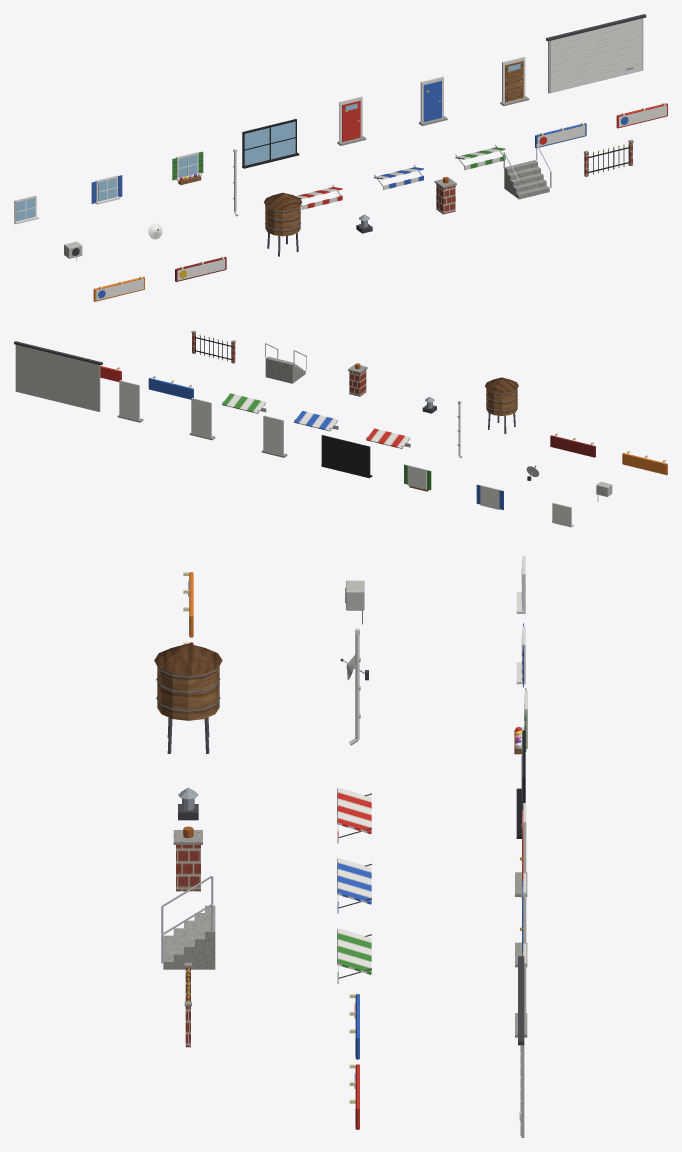
Rendered from Props_Kit.fbx.
3 renders of one model, top to bottom at view 1: azimuth 30°, elevation 25°; view 2: azimuth 150°, elevation 25°; view 3: azimuth 270°, elevation 25°, orthographic. The views are drawn at different scales.
Visible parts, largest first — view 1: Kit_GarageDoor, Kit_ShopWindow, Kit_WaterTank, Kit_Stairs, Kit_DoorRed, Kit_DoorWood, Kit_DoorBlue, Kit_WindowFlowers, Kit_WindowShutters, Kit_SignBarber, Kit_SignGym, Kit_SignFurniture (+7 smaller); view 2: Kit_GarageDoor, Kit_ShopWindow, Kit_WaterTank, Kit_Stairs, Kit_DoorBlue, Kit_DoorRed, Kit_DoorWood, Kit_WindowFlowers, Kit_SignFurniture, Kit_SignGym, Kit_SignClothes, Kit_WindowShutters (+6 smaller); view 3: Kit_WaterTank, Kit_Stairs, Kit_Chimney, Kit_AwningBlue, Kit_AwningRed, Kit_AwningGreen, Kit_GarageDoor.
Part boxes in pixels (bbox=[...]): Kit_GarageDoor: bbox=[546, 14, 646, 93]; Kit_ShopWindow: bbox=[242, 119, 299, 168]; Kit_WaterTank: bbox=[264, 192, 302, 256]; Kit_Stairs: bbox=[503, 144, 551, 199]; Kit_DoorRed: bbox=[337, 96, 366, 145]; Kit_DoorWood: bbox=[500, 56, 529, 105]; Kit_DoorBlue: bbox=[419, 76, 447, 125]; Kit_WindowFlowers: bbox=[172, 151, 203, 184]; Kit_WindowShutters: bbox=[91, 175, 122, 204]; Kit_SignBarber: bbox=[616, 103, 667, 128]; Kit_SignGym: bbox=[175, 256, 226, 281]; Kit_SignFurniture: bbox=[93, 276, 144, 301]; Kit_GarageDoor: bbox=[14, 341, 102, 411]; Kit_ShopWindow: bbox=[321, 435, 372, 478]; Kit_WaterTank: bbox=[485, 377, 518, 433]; Kit_Stairs: bbox=[265, 343, 306, 383]; Kit_DoorBlue: bbox=[189, 397, 215, 440]; Kit_DoorRed: bbox=[261, 415, 287, 457]; Kit_DoorWood: bbox=[117, 380, 143, 422]; Kit_WindowFlowers: bbox=[404, 464, 431, 491]; Kit_SignFurniture: bbox=[622, 450, 667, 475]; Kit_SignGym: bbox=[550, 433, 595, 457]; Kit_SignClothes: bbox=[148, 375, 193, 399]; Kit_WindowShutters: bbox=[476, 484, 503, 509]; Kit_WaterTank: bbox=[154, 643, 222, 753]; Kit_Stairs: bbox=[161, 875, 215, 969]; Kit_Chimney: bbox=[173, 826, 202, 891]; Kit_AwningBlue: bbox=[337, 858, 371, 913]; Kit_AwningRed: bbox=[337, 787, 371, 843]; Kit_AwningGreen: bbox=[337, 928, 371, 983]; Kit_GarageDoor: bbox=[518, 956, 524, 1137].
Size of the model in its own units: 127 by 13.93 by 35.95.
1 material, 1 textured.
